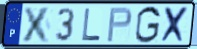3: (55, 7, 76, 42)
G: (134, 5, 162, 45)
L: (81, 7, 102, 42)
P: (105, 6, 134, 43)
X: (20, 6, 53, 44), (160, 6, 191, 44)
